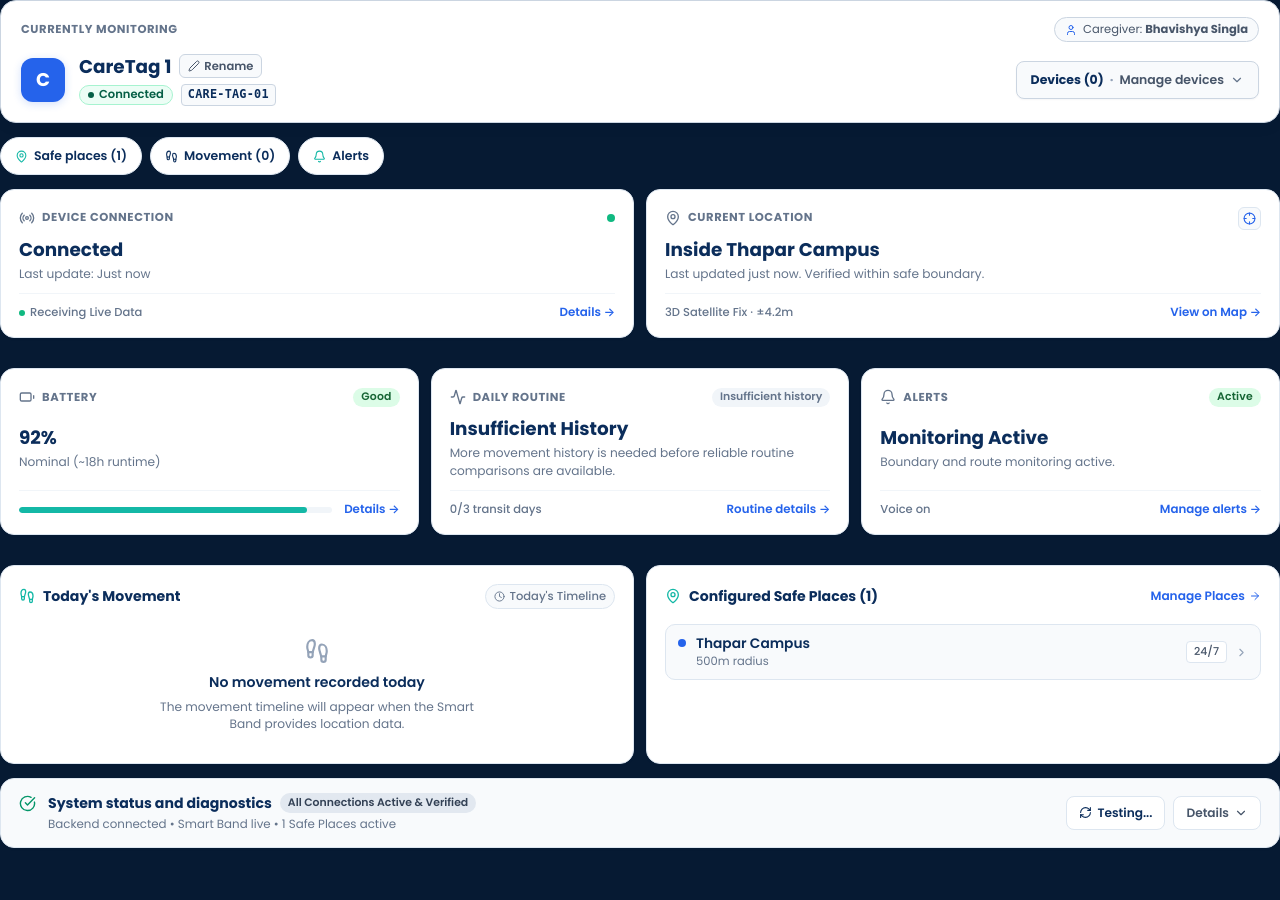
Test case: CaregiverOverview Component › reveals location boundary details when location card is inspected
Click Location card to open details drawer
Click the button "Current Location" at (963,264), box [646,189,1279,338]
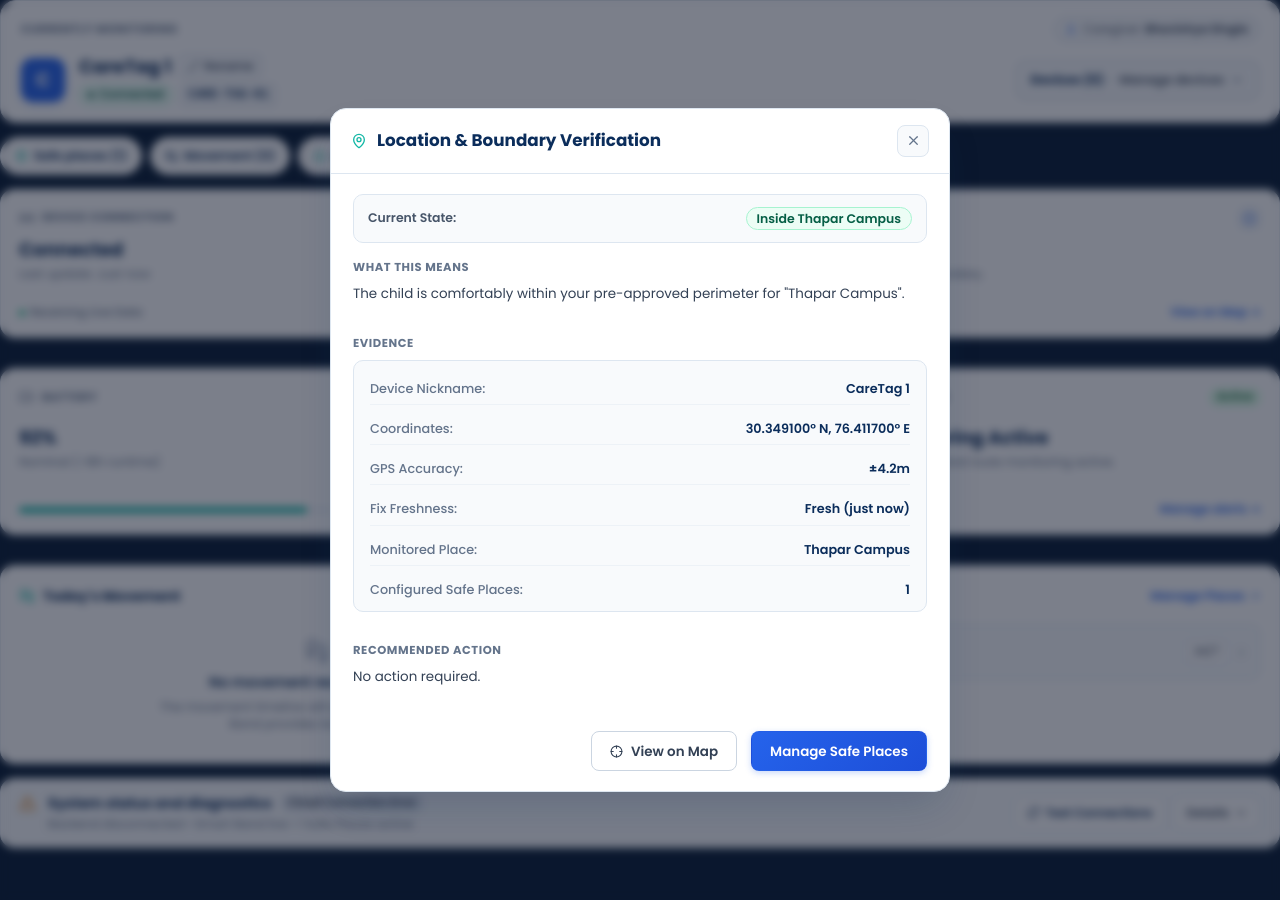
Result: the text "The child is comfortably within your pre-approved perimeter" is shown at [353,284,904,303]
